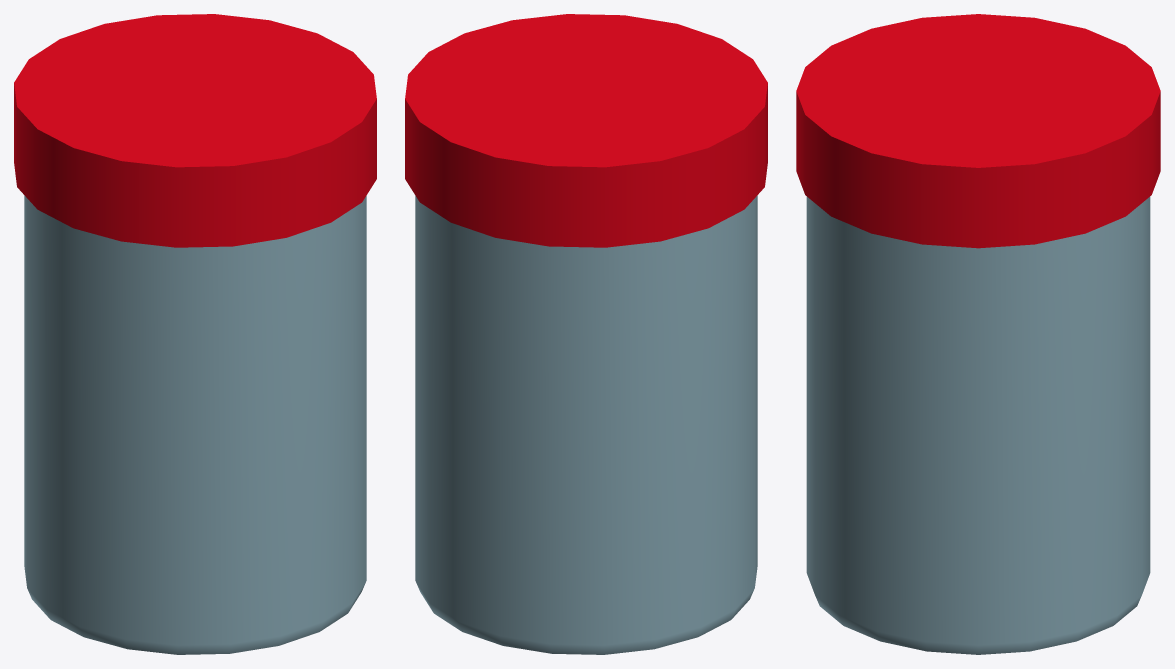
Rendered from gliterbottel.fbx.
The picture shows the model from 3 angles, left to right: view 1: azimuth 30°, elevation 25°; view 2: azimuth 150°, elevation 25°; view 3: azimuth 270°, elevation 25°; orthographic projection.
Visible parts, largest first — view 1: bottle, cap; view 2: bottle, cap; view 3: bottle, cap.
Part boxes in pixels (x1=…): bottle: x1=24, y1=195, x2=366, y2=654; cap: x1=14, y1=14, x2=376, y2=247; bottle: x1=415, y1=195, x2=757, y2=654; cap: x1=405, y1=14, x2=767, y2=247; bottle: x1=806, y1=196, x2=1150, y2=654; cap: x1=796, y1=14, x2=1160, y2=248.
Bounding box in the file's own units: 1.35 × 2.04 × 1.35.
